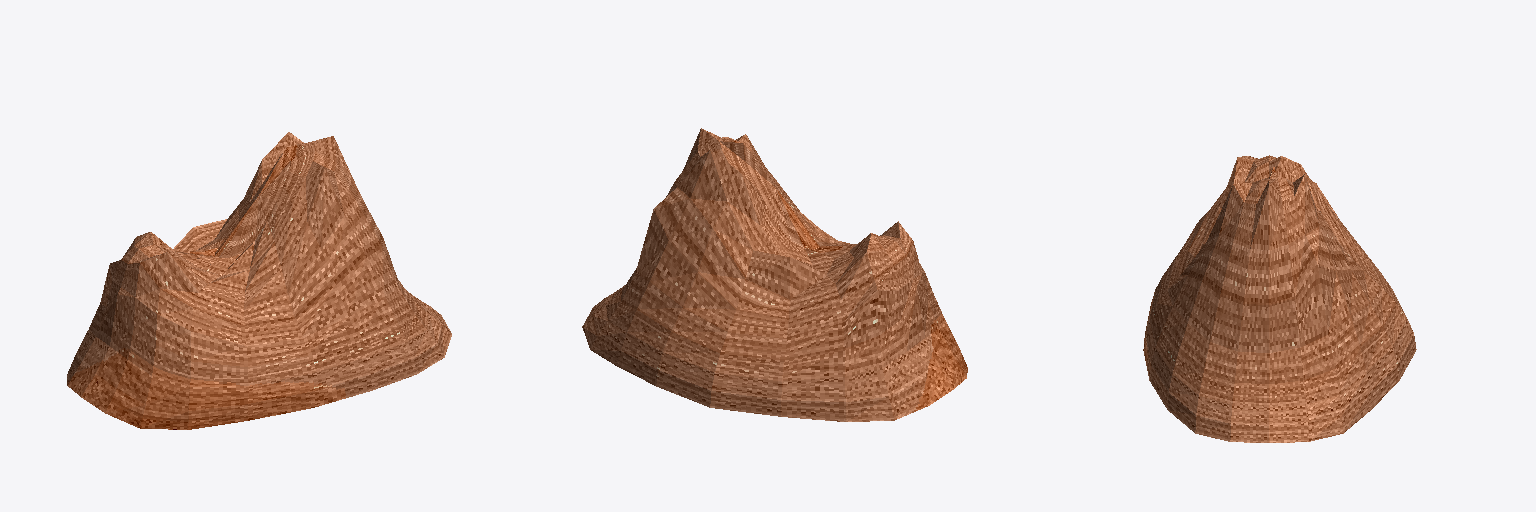
3 renders of one model, left to right at view 1: azimuth 30°, elevation 25°; view 2: azimuth 150°, elevation 25°; view 3: azimuth 270°, elevation 25°, orthographic.
Parts seen in each view (by area): view 1: pSphere1; view 2: pSphere1; view 3: pSphere1.
Boxes of the visible parts, x1=… form: pSphere1: x1=67, y1=132, x2=451, y2=429; pSphere1: x1=582, y1=128, x2=967, y2=421; pSphere1: x1=1143, y1=155, x2=1416, y2=442.
Bounding box in the file's own units: 3.67 × 2.07 × 2.41.
1 materials, 1 textured.